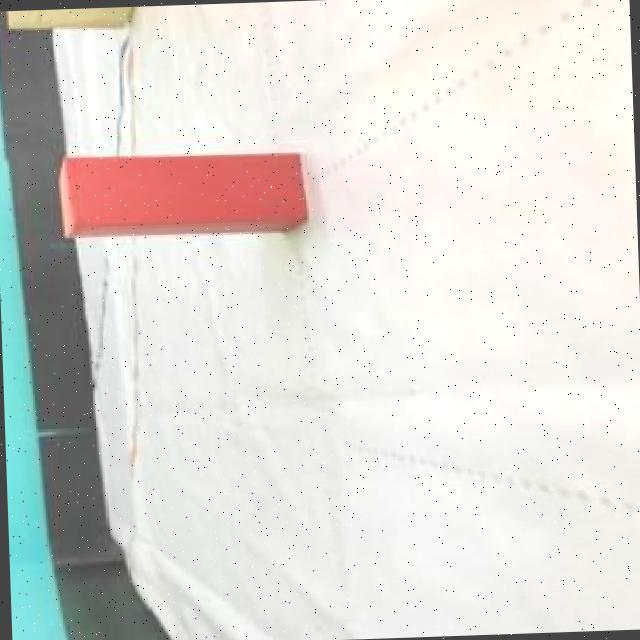redbox: (54, 146, 313, 241)
